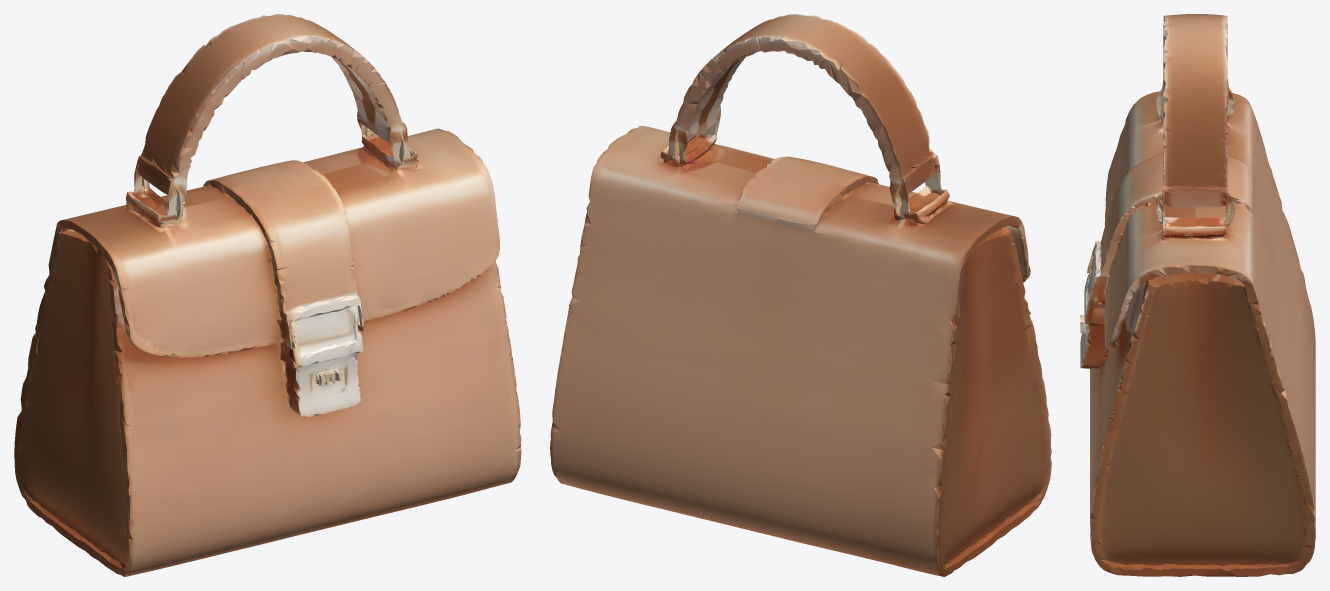
The model's file is handbag.glb.
3 renders of one model, left to right at view 1: azimuth 30°, elevation 25°; view 2: azimuth 150°, elevation 25°; view 3: azimuth 270°, elevation 25°, orthographic. The views are drawn at different scales.
Parts seen in each view (by area): view 1: Handbag; view 2: Handbag; view 3: Handbag.
Boxes of the visible parts, x1,y1,x2,y2 form: Handbag: (14, 14, 521, 576); Handbag: (550, 14, 1051, 576); Handbag: (1080, 14, 1315, 576).
Size of the model in its own units: 4.08 by 4.75 by 2.19.
Materials: 1 (1 with a texture image).
